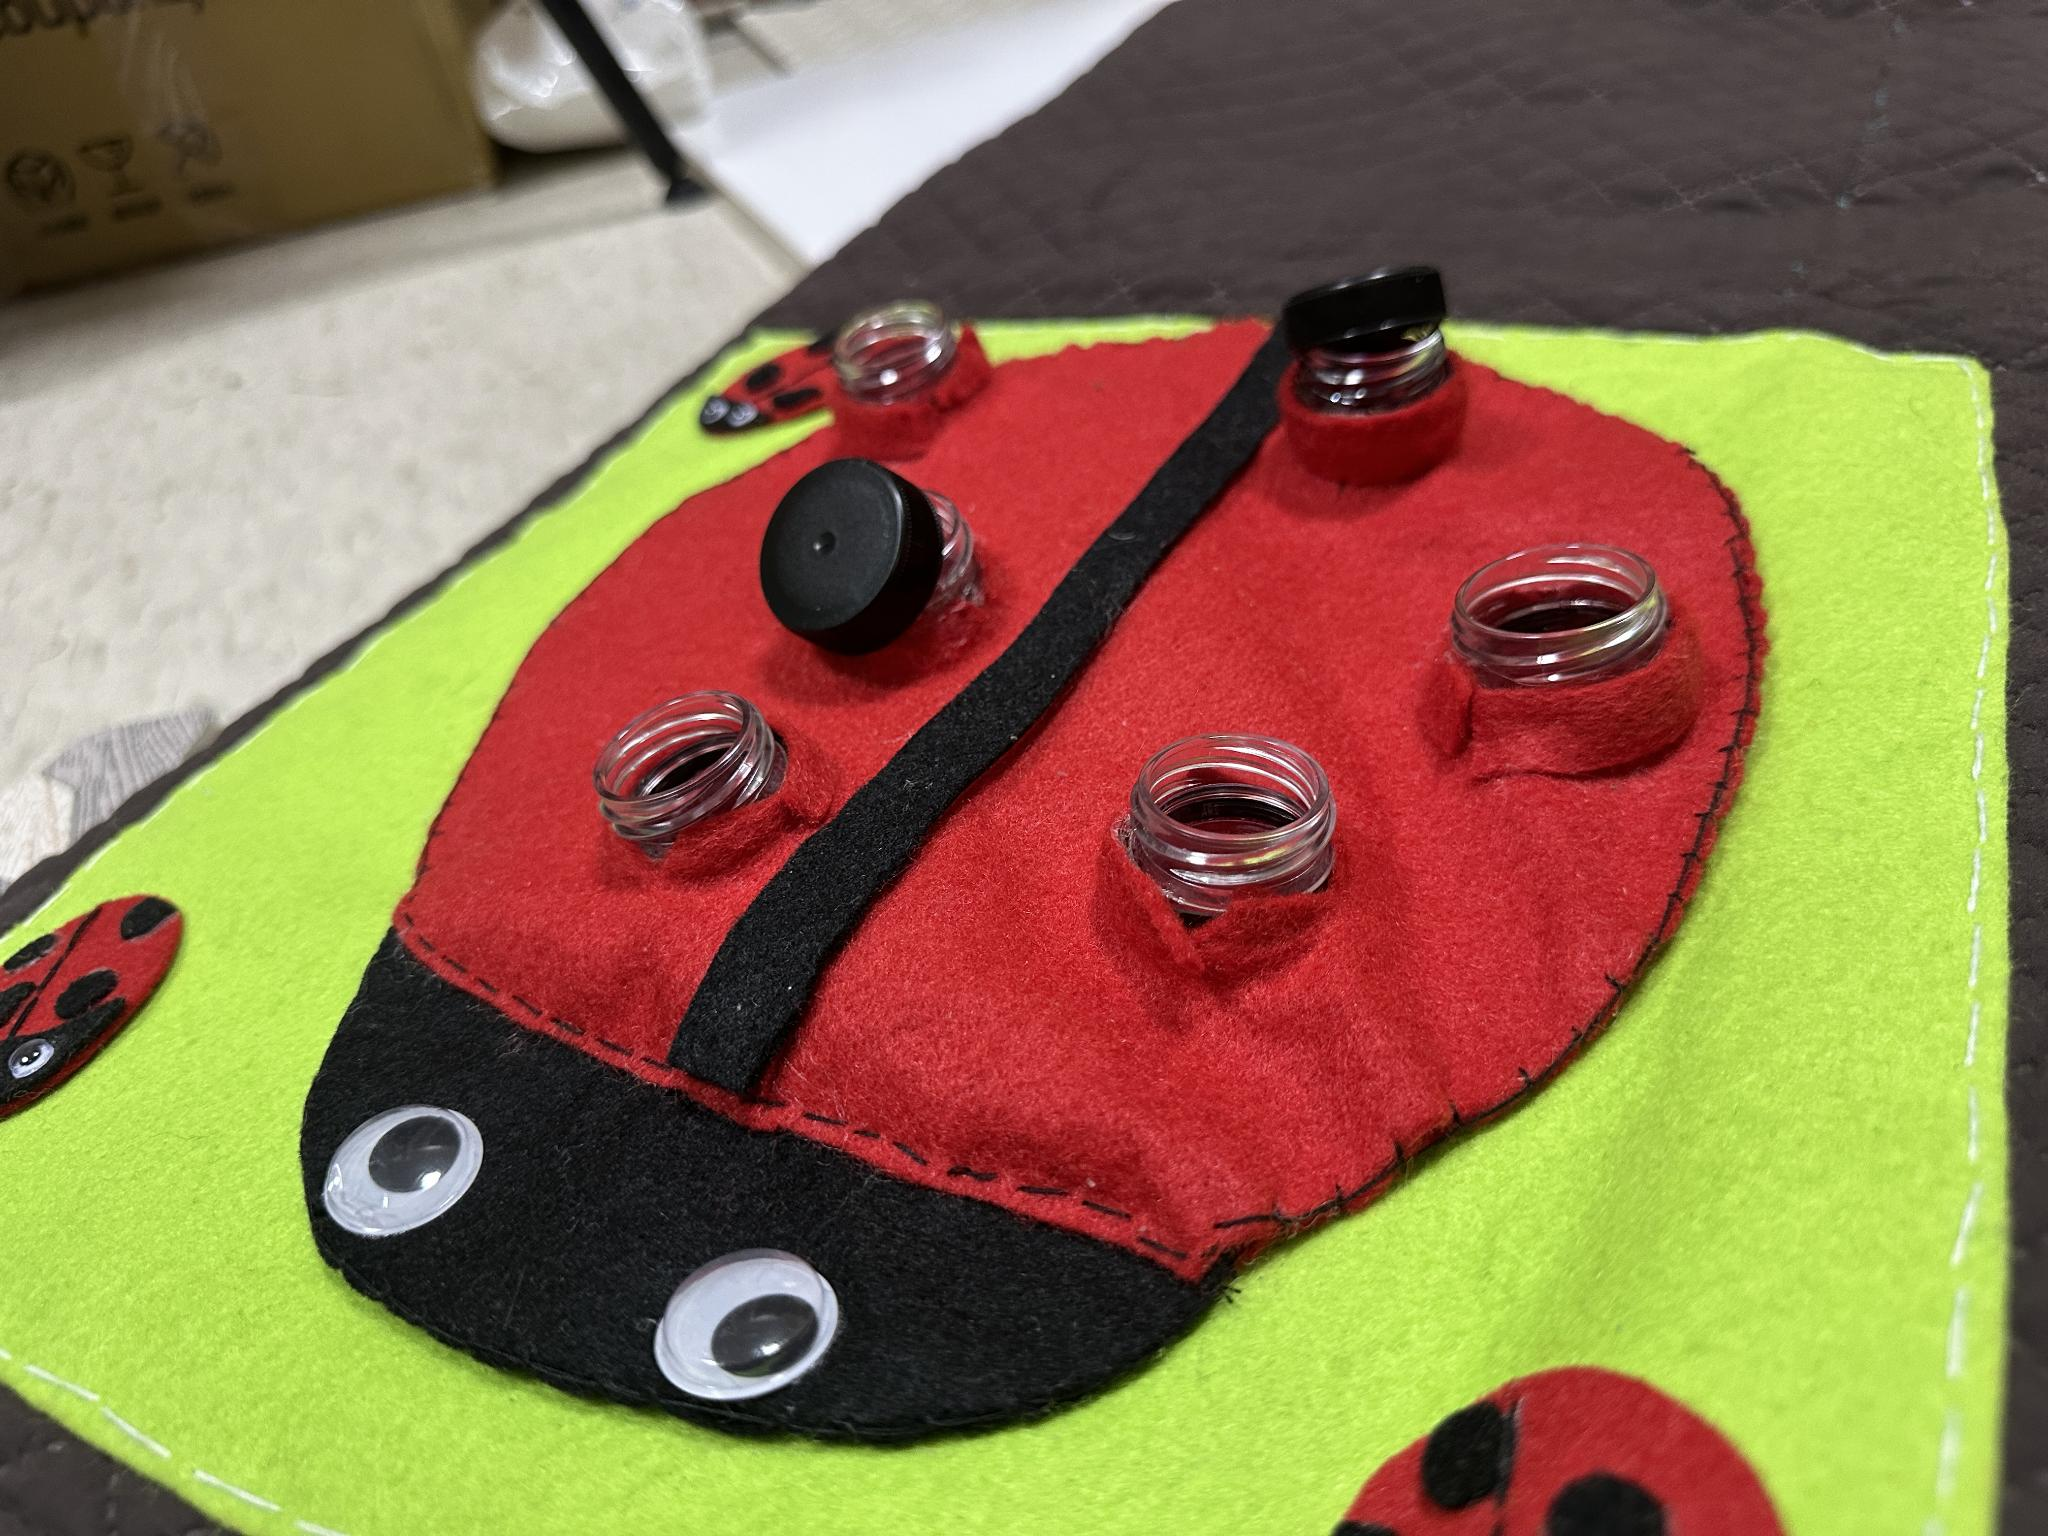cap_ng: (748, 445, 1011, 679), (1263, 253, 1492, 510)
